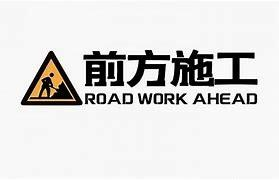sign: (26, 48, 263, 109)
